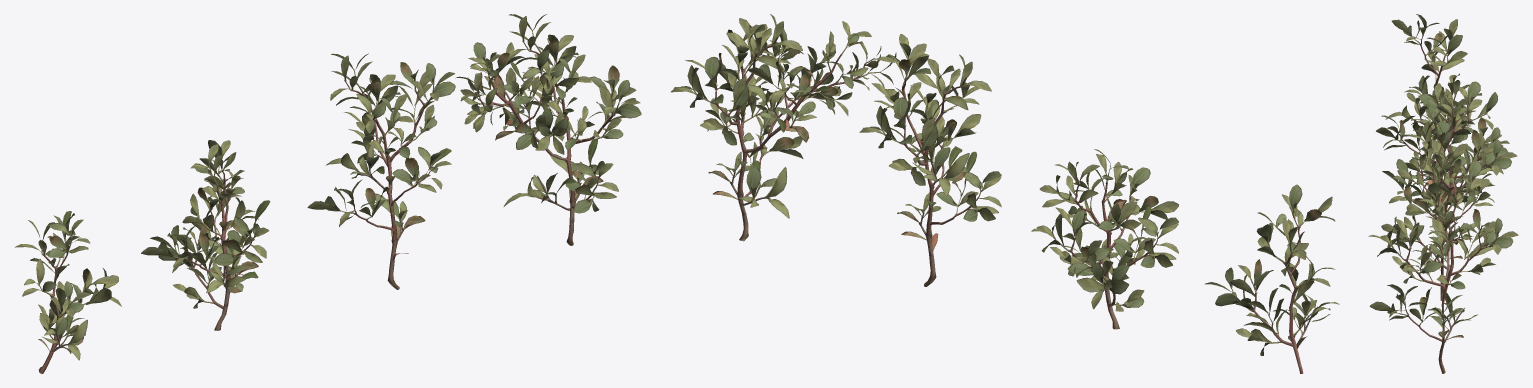
The model's file is shrub_04.glb.
3 renders of one model, left to right at view 1: azimuth 30°, elevation 25°; view 2: azimuth 150°, elevation 25°; view 3: azimuth 270°, elevation 25°, orthographic. The views are drawn at different scales.
Visible parts, largest first — view 1: shrub_04; view 2: shrub_04; view 3: shrub_04.
Boxes of the visible parts, <box> form: shrub_04: <box>15,14,641,373</box>; shrub_04: <box>671,14,1339,373</box>; shrub_04: <box>1368,14,1518,373</box>.
Bounding box in the file's own units: 0.5837 × 0.2192 × 0.1461.
Materials: 1 (1 with a texture image).
